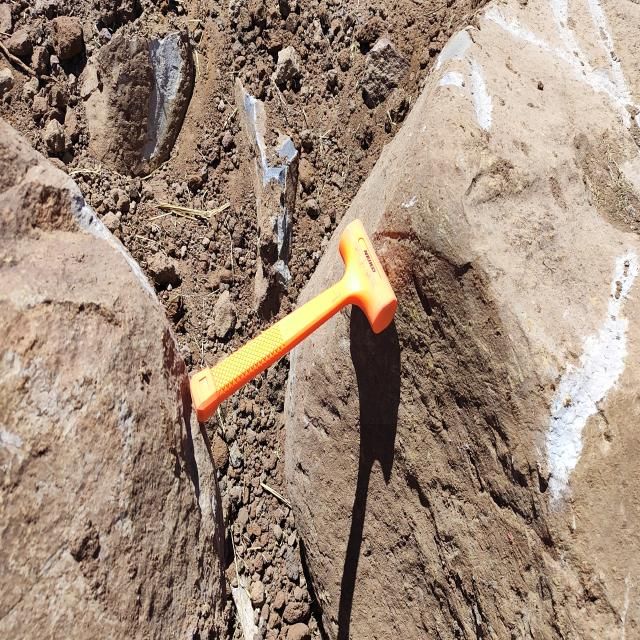Orange_hammer: (188, 217, 398, 424)
